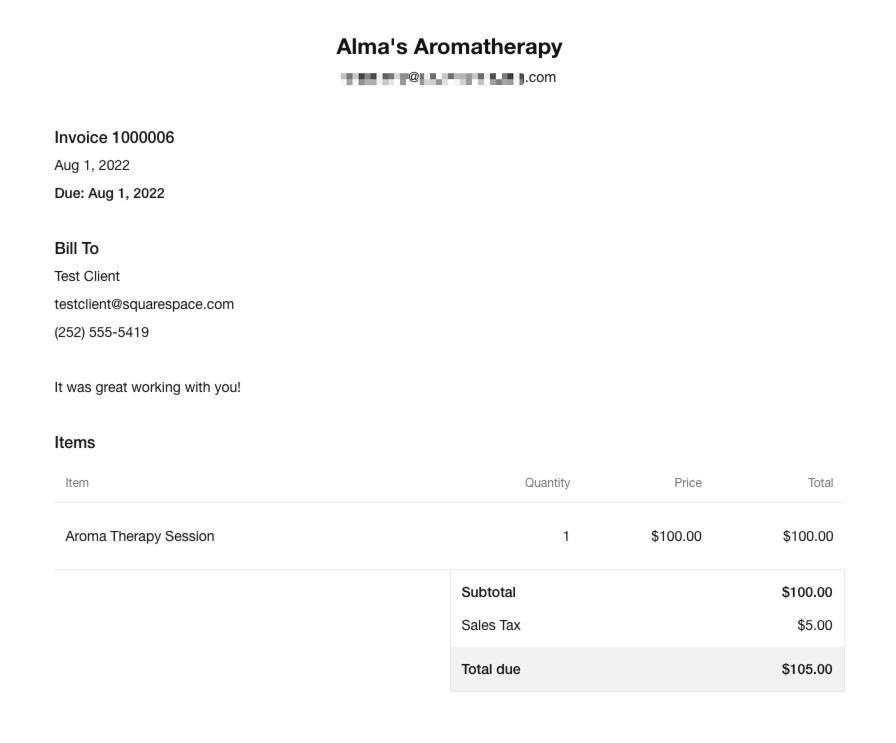ROI: (48, 436, 847, 562), (457, 585, 836, 677), (44, 234, 242, 340), (37, 126, 206, 217), (326, 31, 572, 66)
